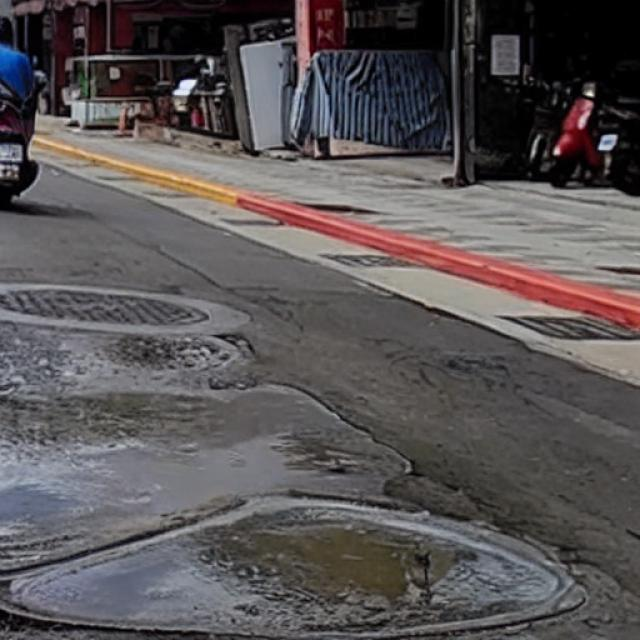puddle: (1, 440, 585, 640)
